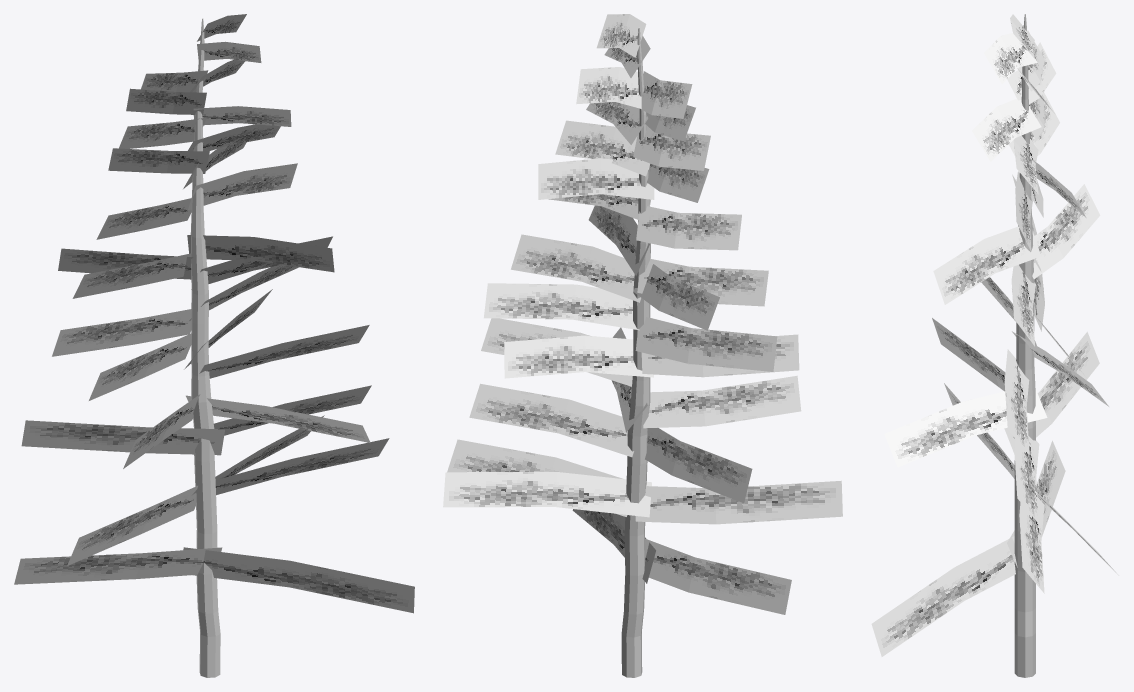
Rendered from Pino3.fbx.
3 views of the same model, side by side, from view 1: azimuth 30°, elevation 25°; view 2: azimuth 150°, elevation 25°; view 3: azimuth 270°, elevation 25° (orthographic).
Visible parts, largest first — view 1: LeafL, Tallo; view 2: LeafL, Tallo; view 3: LeafL, Tallo.
Part boxes in pixels (<box>): LeafL: <box>14,14,414,613</box>; Tallo: <box>190,18,220,677</box>; LeafL: <box>443,14,842,614</box>; Tallo: <box>621,27,650,677</box>; LeafL: <box>871,14,1118,656</box>; Tallo: <box>1014,14,1035,677</box>.
Bounding box in the file's own units: 3.38 × 5.99 × 2.04.
1 material, 1 textured.
